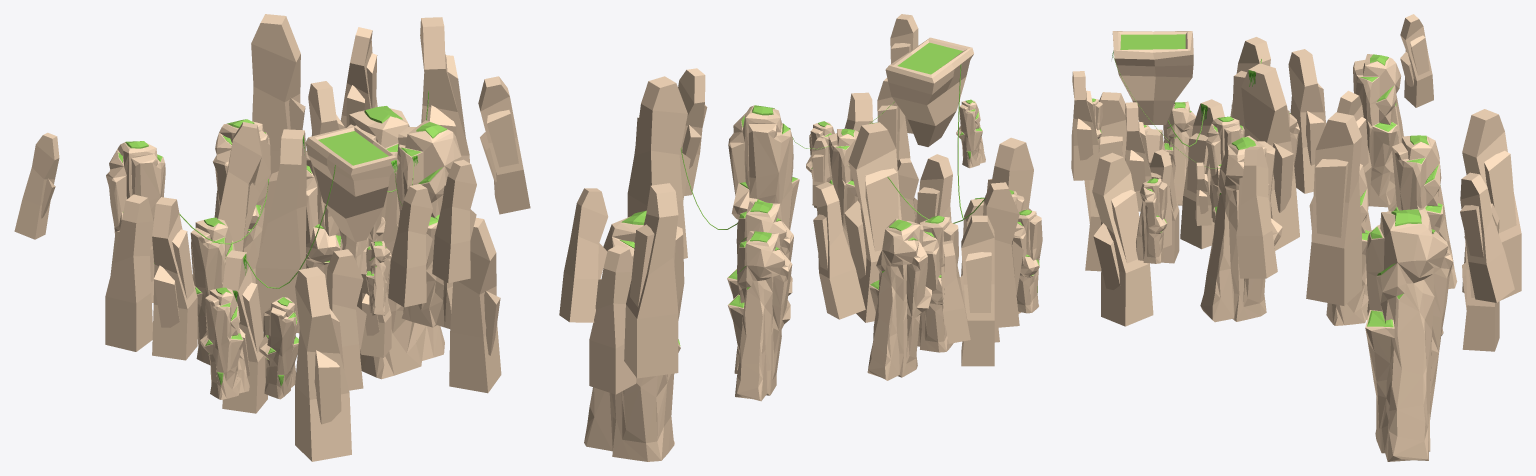
The model's file is Mountain01.glb.
3 renders of one model, left to right at view 1: azimuth 30°, elevation 25°; view 2: azimuth 150°, elevation 25°; view 3: azimuth 270°, elevation 25°, orthographic. The views are drawn at different scales.
Parts seen in each view (by area): view 1: LPMeshBoulder02.002, Cube.001, LPMeshBoulder02.012, LPMeshBoulder02.006, LPMeshBoulder02.016, LPMeshBoulder02.008, LPMeshGras.010, LPMeshGras.007, LPMeshBoulder02.005, LPMeshBoulder02.015, LPMeshBoulder02.011, LPMeshBoulder02.001 (+16 smaller); view 2: LPMeshBoulder02.005, LPMeshGras.007, LPMeshGras.008, LPMeshGras.011, LPMeshBoulder02.012, LPMeshBoulder02.014, Cube.001, LPMeshGras.010, LPMeshBoulder02.009, LPMeshBoulder02.016, LPMeshBoulder02.007, LPMeshBoulder02.013 (+16 smaller); view 3: LPMeshGras.007, LPMeshBoulder02.014, LPMeshBoulder02.006, LPMeshGras.010, Cube.001, LPMeshBoulder02.012, LPMeshGras.011, LPMeshBoulder02.005, LPMeshBoulder02.007, LPMeshBoulder02.015, LPMeshGras.008, LPMeshBoulder02.016 (+15 smaller).
Boxes of the visible parts, x1,y1,x2,y2 form: LPMeshBoulder02.002: (295, 266, 351, 461); Cube.001: (305, 125, 399, 242); LPMeshBoulder02.012: (255, 129, 306, 333); LPMeshBoulder02.006: (449, 217, 501, 393); LPMeshBoulder02.016: (105, 194, 153, 351); LPMeshBoulder02.008: (152, 197, 197, 360); LPMeshGras.010: (396, 120, 461, 328); LPMeshGras.007: (347, 106, 444, 379); LPMeshBoulder02.005: (251, 14, 305, 175); LPMeshBoulder02.015: (478, 76, 530, 214); LPMeshBoulder02.011: (432, 159, 476, 283); LPMeshBoulder02.001: (388, 184, 432, 307); LPMeshBoulder02.005: (624, 183, 678, 378); LPMeshGras.007: (584, 210, 684, 461); LPMeshGras.008: (727, 231, 792, 401); LPMeshGras.011: (867, 218, 931, 380); LPMeshBoulder02.012: (844, 122, 901, 322); LPMeshBoulder02.014: (627, 76, 690, 258); Cube.001: (885, 37, 973, 146); LPMeshGras.010: (728, 105, 799, 229); LPMeshBoulder02.009: (589, 245, 636, 394); LPMeshBoulder02.016: (960, 215, 994, 366); LPMeshBoulder02.007: (559, 188, 608, 322); LPMeshBoulder02.013: (813, 182, 865, 319); LPMeshGras.007: (1365, 208, 1453, 461); LPMeshBoulder02.014: (1306, 112, 1361, 305); LPMeshBoulder02.006: (1092, 152, 1153, 326); LPMeshGras.010: (1200, 135, 1282, 322); Cube.001: (1112, 31, 1193, 124); LPMeshBoulder02.012: (1241, 63, 1299, 250); LPMeshGras.011: (1353, 54, 1403, 207); LPMeshBoulder02.005: (1462, 109, 1521, 300); LPMeshBoulder02.007: (1460, 172, 1514, 302); LPMeshBoulder02.015: (1236, 146, 1277, 278); LPMeshGras.008: (1387, 135, 1457, 288); LPMeshBoulder02.016: (1288, 49, 1326, 193).
Size of the model in its own units: 135 by 111 by 136.
Materials: 4 (1 with a texture image).
